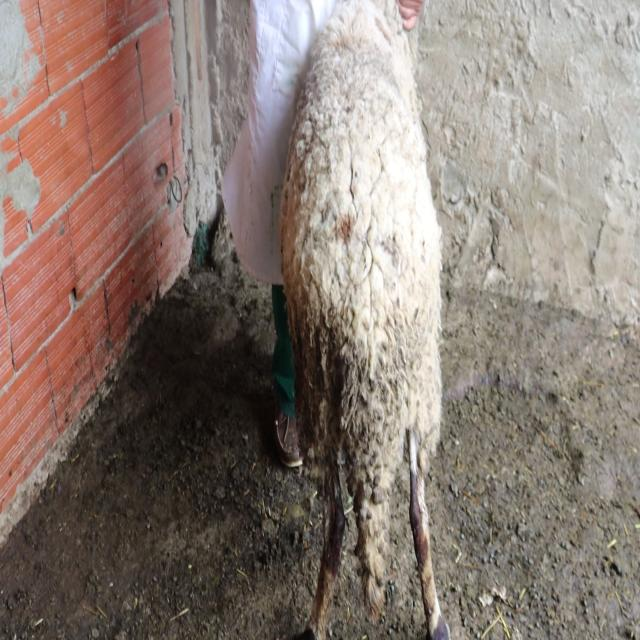Score_3: (280, 0, 449, 639)
